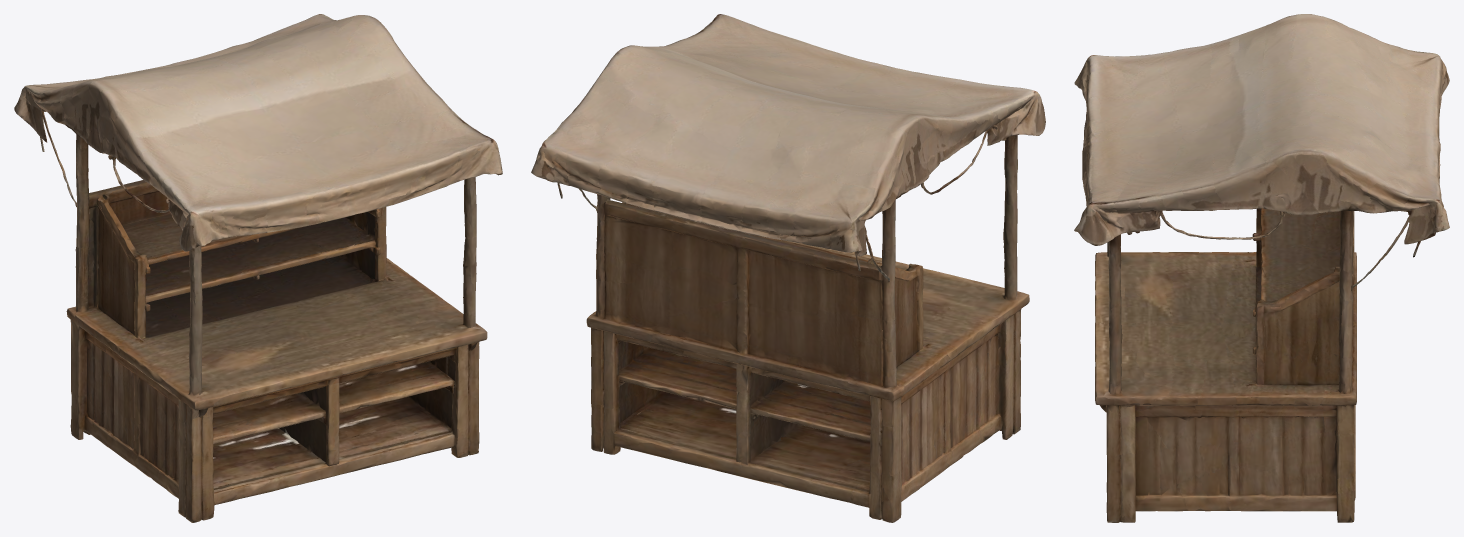
File: market__stall-lona.glb
The picture shows the model from 3 angles, left to right: view 1: azimuth 30°, elevation 25°; view 2: azimuth 150°, elevation 25°; view 3: azimuth 270°, elevation 25°; orthographic projection. The views are drawn at different scales.
Bounding box in the file's own units: 1.72 × 1.9 × 1.75.
Materials: 1 (1 with a texture image).
